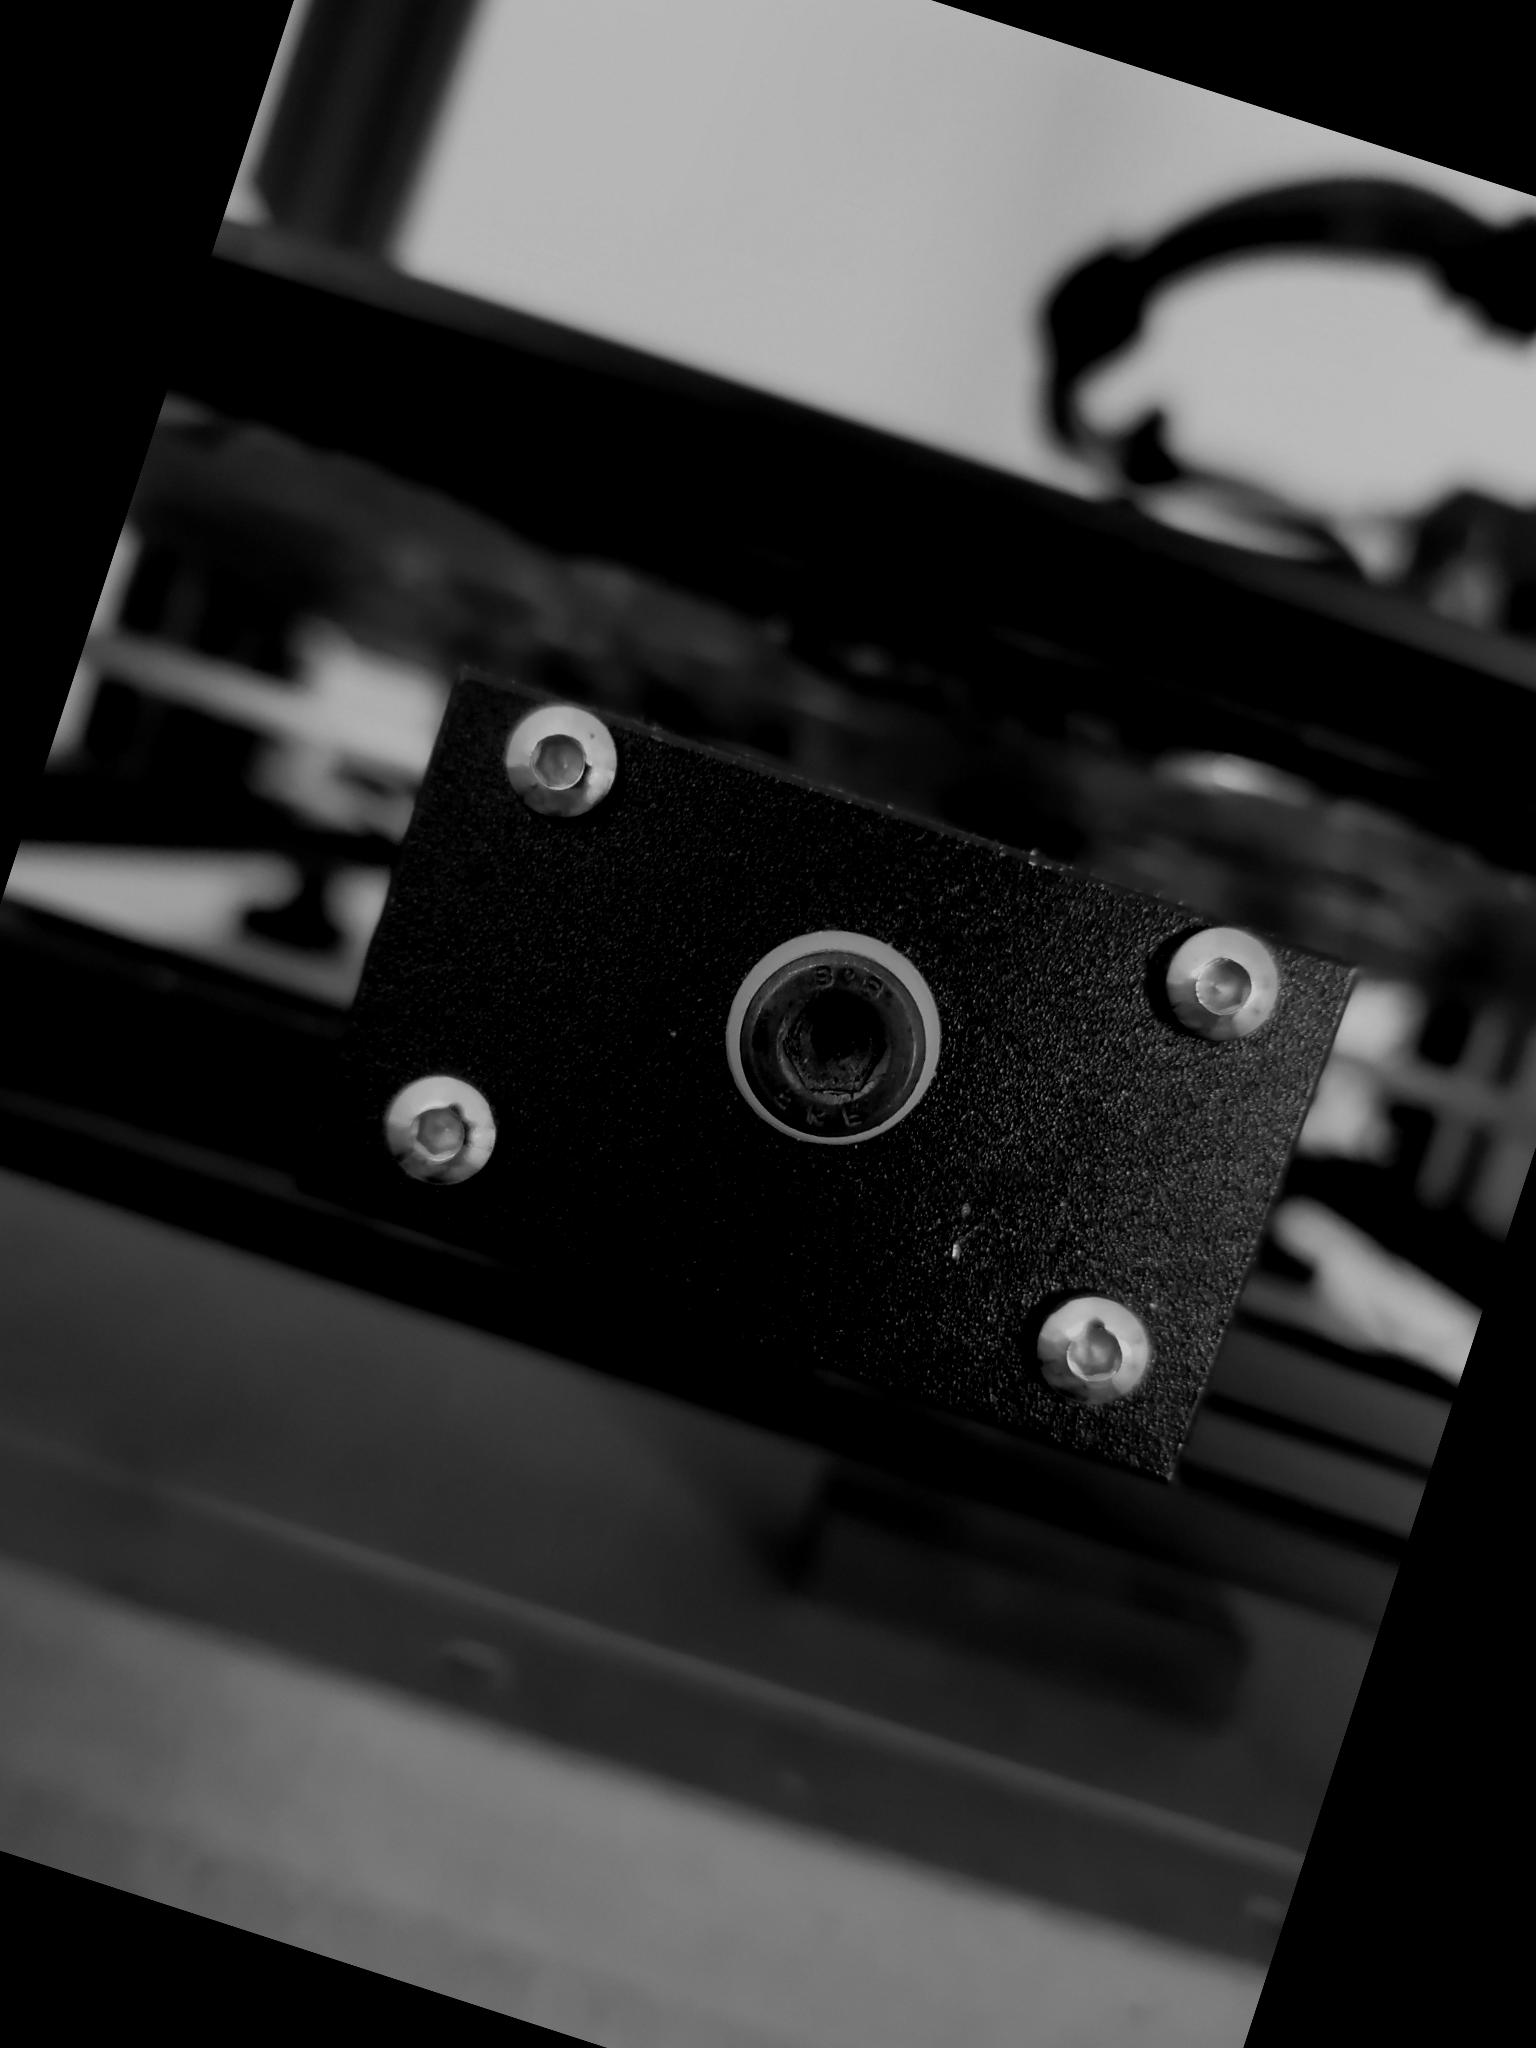screw: (699, 913, 966, 1177), (1136, 901, 1302, 1071), (1012, 1268, 1179, 1430), (481, 679, 641, 842), (358, 1050, 521, 1209)
